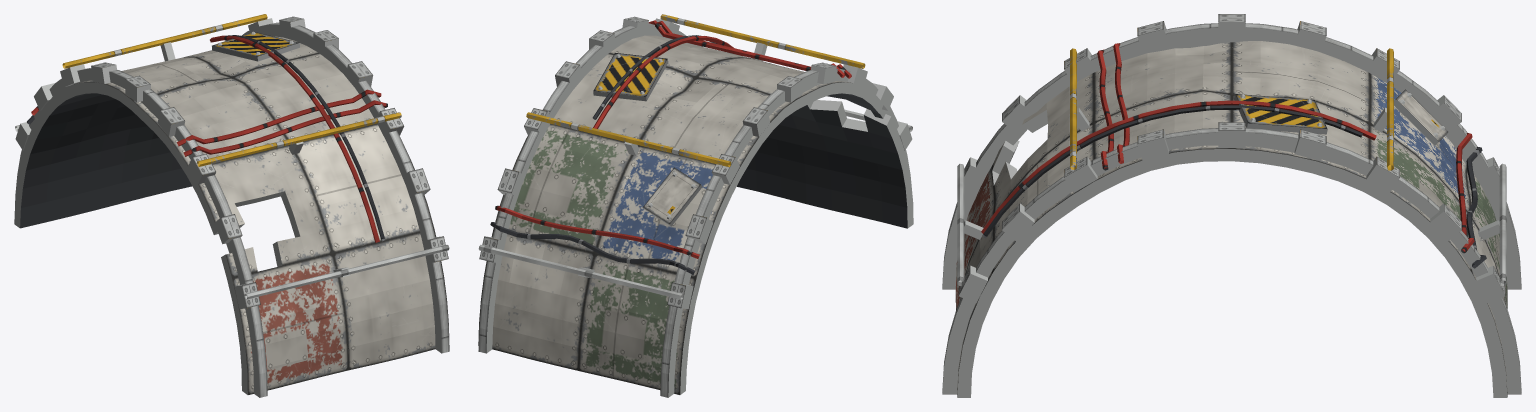
The model's file is hull_basic.fbx.
3 renders of one model, left to right at view 1: azimuth 30°, elevation 25°; view 2: azimuth 150°, elevation 25°; view 3: azimuth 270°, elevation 25°, orthographic. The views are drawn at different scales.
Parts seen in each view (by area): view 1: hull_basic; view 2: hull_basic; view 3: hull_basic.
Boxes of the visible parts, bbox=[...] form: hull_basic: bbox=[14, 14, 449, 397]; hull_basic: bbox=[478, 14, 913, 397]; hull_basic: bbox=[942, 14, 1521, 397].
Size of the model in its own units: 1.01 by 1.07 by 2.1.
1 material, 1 textured.
